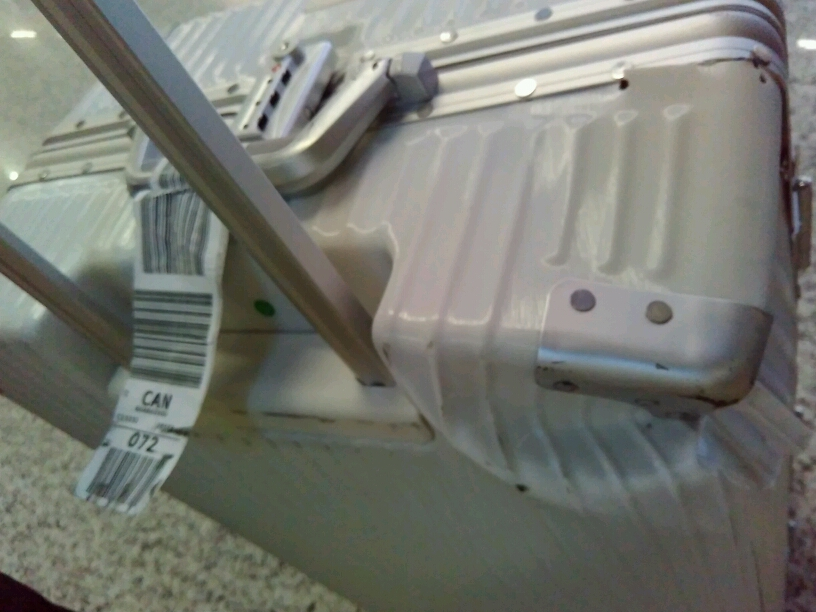rupture: (385, 274, 796, 539)
